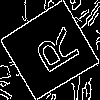R: (24, 25, 82, 81)
